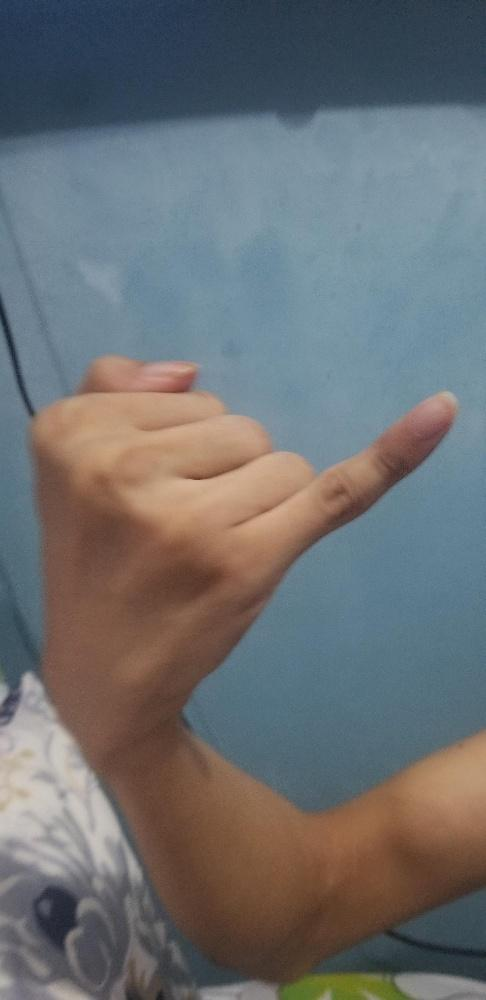j: (15, 350, 460, 760)
